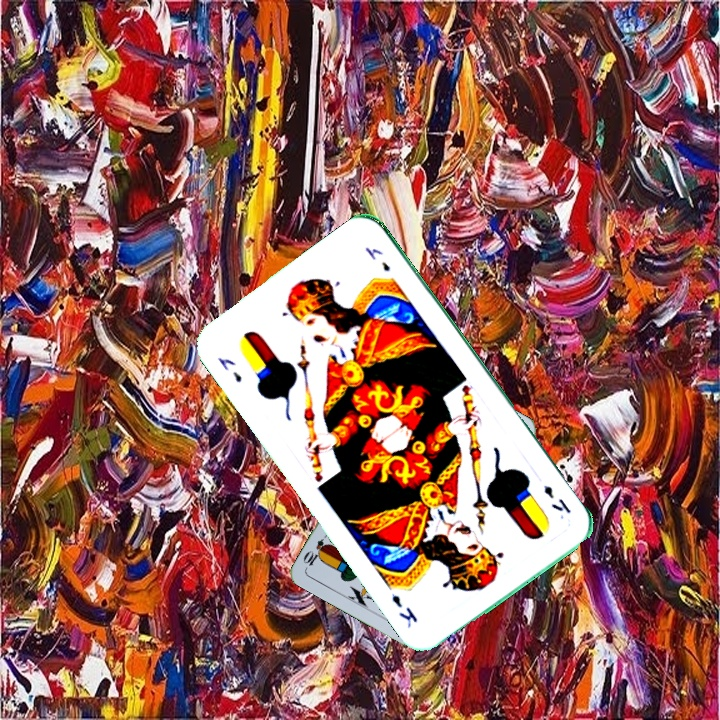EK: (539, 481, 573, 516), (214, 353, 245, 385)
